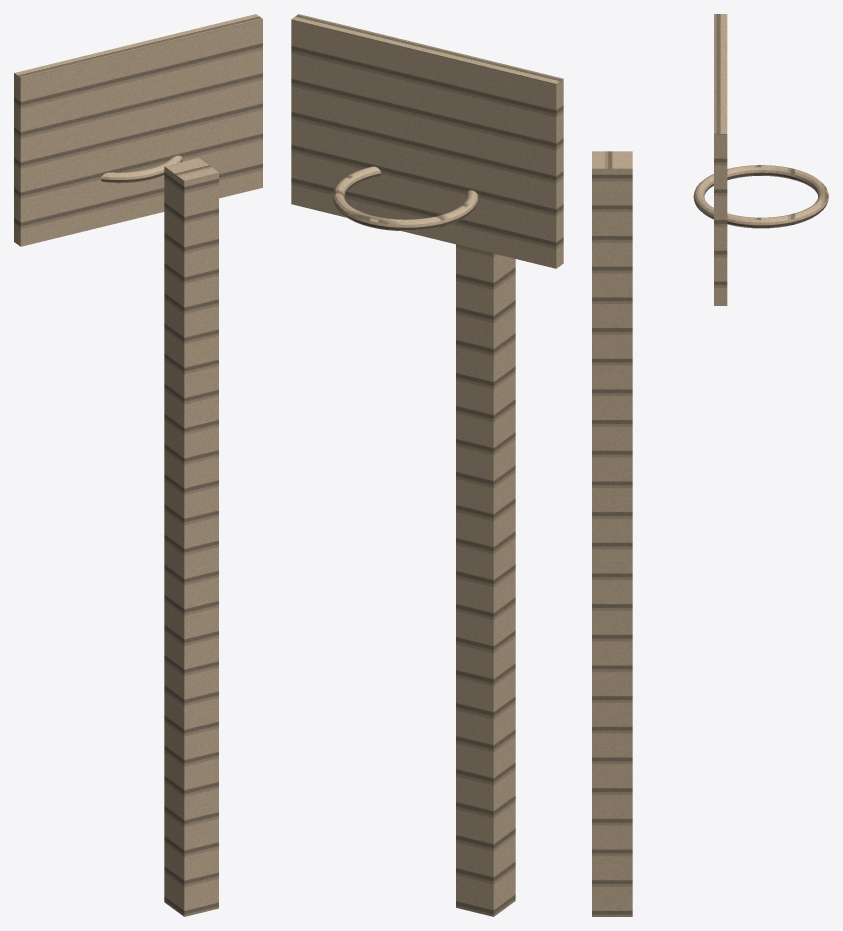
Rendered from basketball_hoop_driveway.glb.
3 views of the same model, side by side, from view 1: azimuth 30°, elevation 25°; view 2: azimuth 150°, elevation 25°; view 3: azimuth 270°, elevation 25° (orthographic). The views are drawn at different scales.
Visible parts, largest first — view 1: basketball_hoop_driveway-col; view 2: basketball_hoop_driveway-col; view 3: basketball_hoop_driveway-col.
Boxes of the visible parts, left/top/right/bottom form: basketball_hoop_driveway-col: left=14, top=14, right=262, bottom=916; basketball_hoop_driveway-col: left=291, top=14, right=563, bottom=916; basketball_hoop_driveway-col: left=592, top=14, right=828, bottom=916.
Size of the model in its own units: 1.05 by 3.4 by 0.875.
1 material, 1 textured.
